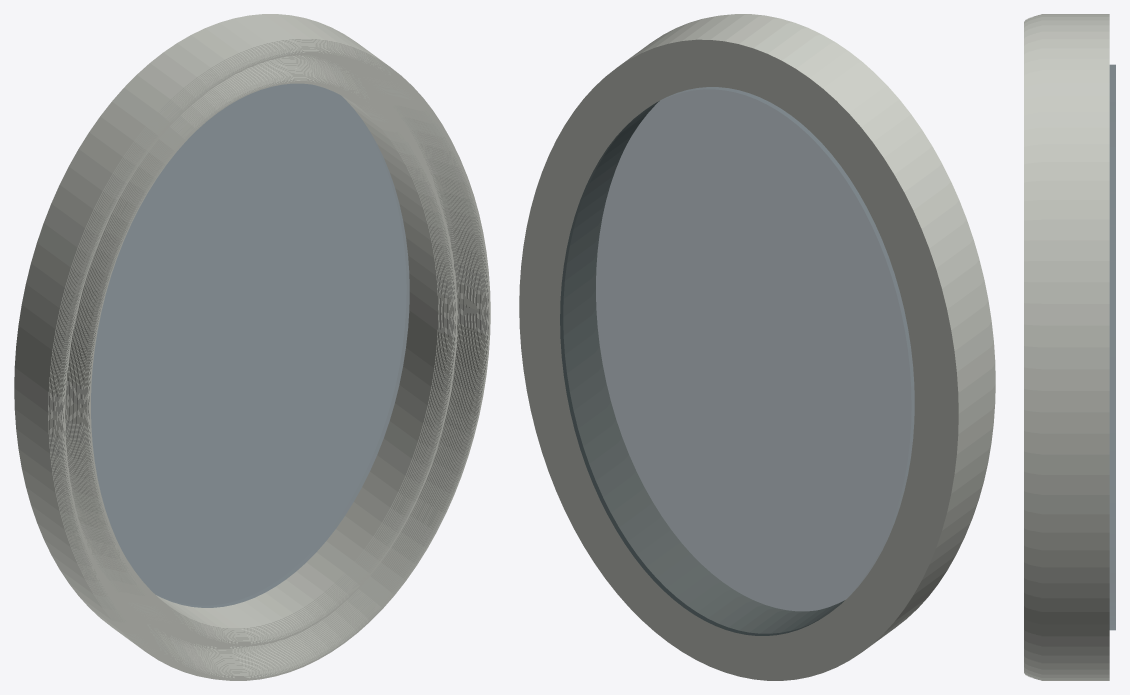
File: barroco_ellipse.glb
The picture shows the model from 3 angles, left to right: view 1: azimuth 30°, elevation 25°; view 2: azimuth 150°, elevation 25°; view 3: azimuth 270°, elevation 25°; orthographic projection.
Parts seen in each view (by area): view 1: window_glass#0001, window_reveal#0001, window_profile#0096, window_profile#0001, window_profile#0081, window_profile#0084, window_profile#0080, window_profile#0083, window_profile#0082, window_profile#0077, window_profile#0093, window_profile#0095 (+68 smaller); view 2: window_glass#0001, window_reveal#0001, window_profile#0096, window_profile#0001, window_profile#0095, window_profile#0093; view 3: window_profile#0096, window_reveal#0001, window_glass#0001, window_profile#0095, window_profile#0094, window_profile#0091, window_profile#0089, window_profile#0093, window_profile#0092, window_profile#0090, window_profile#0088, window_profile#0086 (+6 smaller).
Part boxes in pixels (<box>): window_glass#0001: <box>91,83,409,607</box>; window_reveal#0001: <box>14,14,422,636</box>; window_profile#0096: <box>27,23,442,675</box>; window_profile#0001: <box>135,88,438,629</box>; window_profile#0081: <box>63,52,489,678</box>; window_profile#0084: <box>61,50,490,680</box>; window_profile#0080: <box>64,53,488,678</box>; window_profile#0083: <box>62,51,490,679</box>; window_profile#0082: <box>63,52,489,679</box>; window_profile#0077: <box>65,54,486,676</box>; window_profile#0093: <box>51,41,459,679</box>; window_profile#0095: <box>48,39,439,675</box>; window_glass#0001: <box>560,87,914,635</box>; window_reveal#0001: <box>519,29,973,680</box>; window_profile#0096: <box>635,15,992,640</box>; window_profile#0001: <box>576,101,844,623</box>; window_profile#0095: <box>722,14,993,550</box>; window_profile#0093: <box>720,14,994,537</box>; window_profile#0096: <box>1041,14,1084,680</box>; window_reveal#0001: <box>1080,14,1109,680</box>; window_glass#0001: <box>1109,64,1115,630</box>; window_profile#0095: <box>1039,14,1041,680</box>; window_profile#0094: <box>1037,15,1039,679</box>; window_profile#0091: <box>1032,16,1034,678</box>; window_profile#0089: <box>1029,17,1031,677</box>; window_profile#0093: <box>1036,15,1037,679</box>; window_profile#0092: <box>1034,16,1035,678</box>; window_profile#0090: <box>1031,17,1032,677</box>; window_profile#0088: <box>1028,18,1029,676</box>; window_profile#0086: <box>1026,19,1027,675</box>.
Size of the model in its own units: 1.6 by 2.2 by 0.2896.
